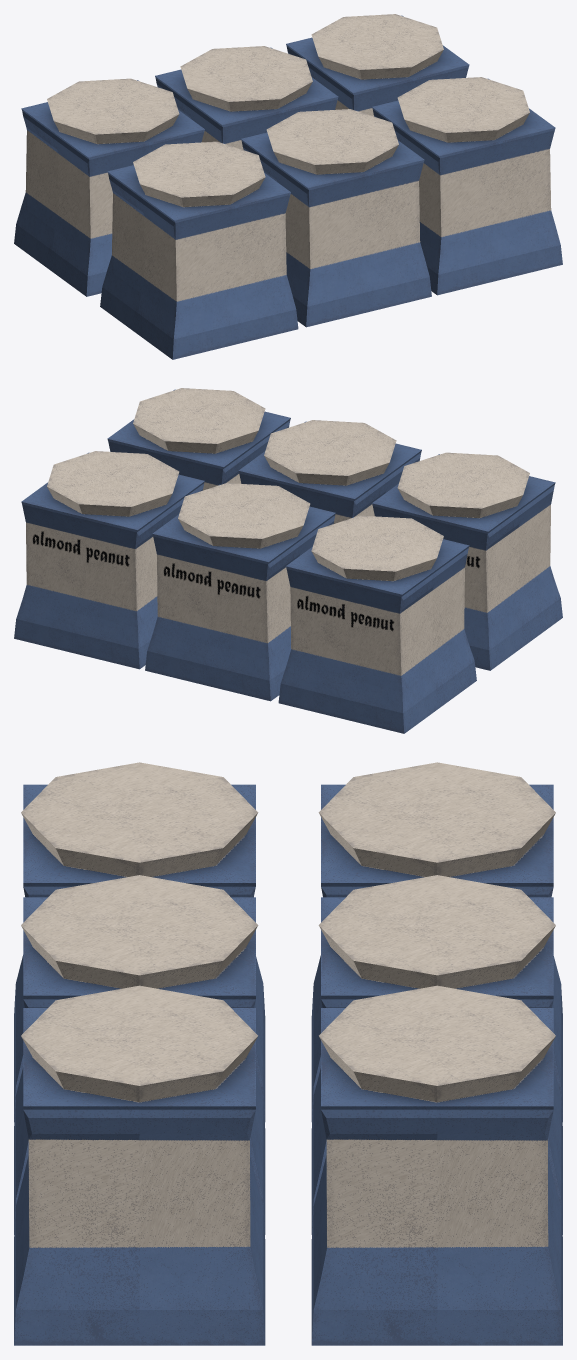
File: Peanuts_large.fbx
3 renders of one model, top to bottom at view 1: azimuth 30°, elevation 25°; view 2: azimuth 150°, elevation 25°; view 3: azimuth 270°, elevation 25°, orthographic. The views are drawn at different scales.
Parts seen in each view (by area): view 1: peanuts; view 2: peanuts; view 3: peanuts.
Boxes of the visible parts, bbox=[...] form: peanuts: bbox=[14, 14, 562, 359]; peanuts: bbox=[14, 388, 562, 733]; peanuts: bbox=[14, 762, 562, 1345].
Bounding box in the file's own units: 670 × 243 × 472.
Materials: 1 (1 with a texture image).
